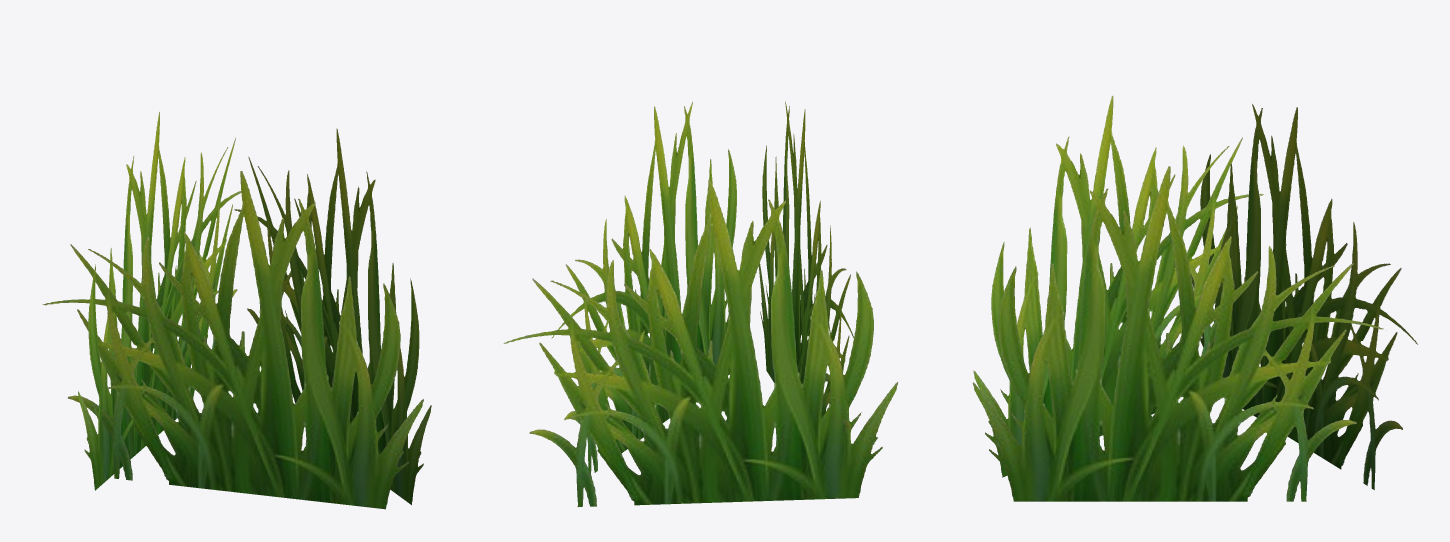
The model's file is grass.fbx.
3 renders of one model, left to right at view 1: azimuth 30°, elevation 25°; view 2: azimuth 150°, elevation 25°; view 3: azimuth 270°, elevation 25°, orthographic. The views are drawn at different scales.
Visible parts, largest first — view 1: grass; view 2: grass; view 3: grass.
Part boxes in pixels (<box>): grass: <box>42,112,431,509</box>; grass: <box>503,101,897,506</box>; grass: <box>972,96,1417,501</box>.
Size of the model in its own units: 101 by 102 by 128.
1 material, 1 textured.
